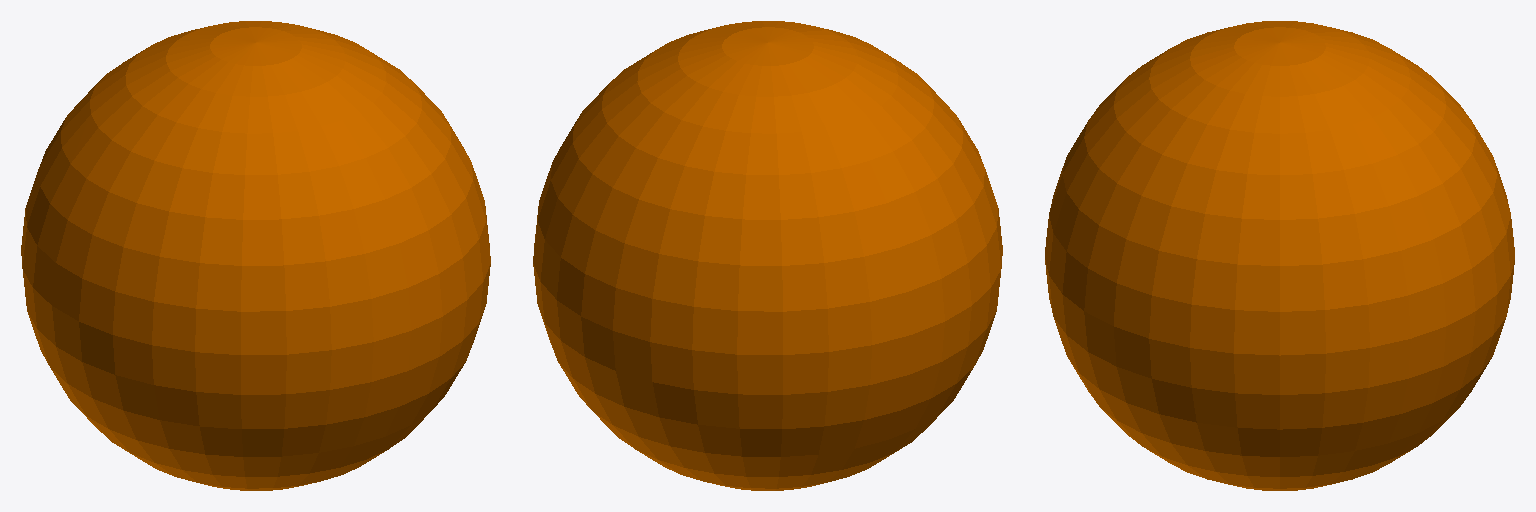
The model's file is anti_matter_core.obj.
The picture shows the model from 3 angles: view 1: azimuth 30°, elevation 25°; view 2: azimuth 150°, elevation 25°; view 3: azimuth 270°, elevation 25°; orthographic projection.
Visible parts, largest first — view 1: Sphere; view 2: Sphere; view 3: Sphere.
Boxes of the visible parts, x1=… form: Sphere: x1=21, y1=21, x2=490, y2=490; Sphere: x1=533, y1=21, x2=1002, y2=490; Sphere: x1=1045, y1=21, x2=1514, y2=490.
Bounding box in the file's own units: 0.5148 × 0.5148 × 0.5148.